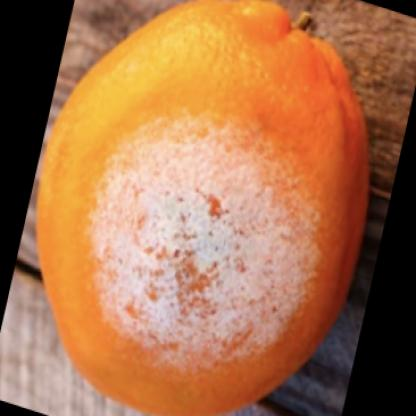rotten: (35, 1, 371, 416)
